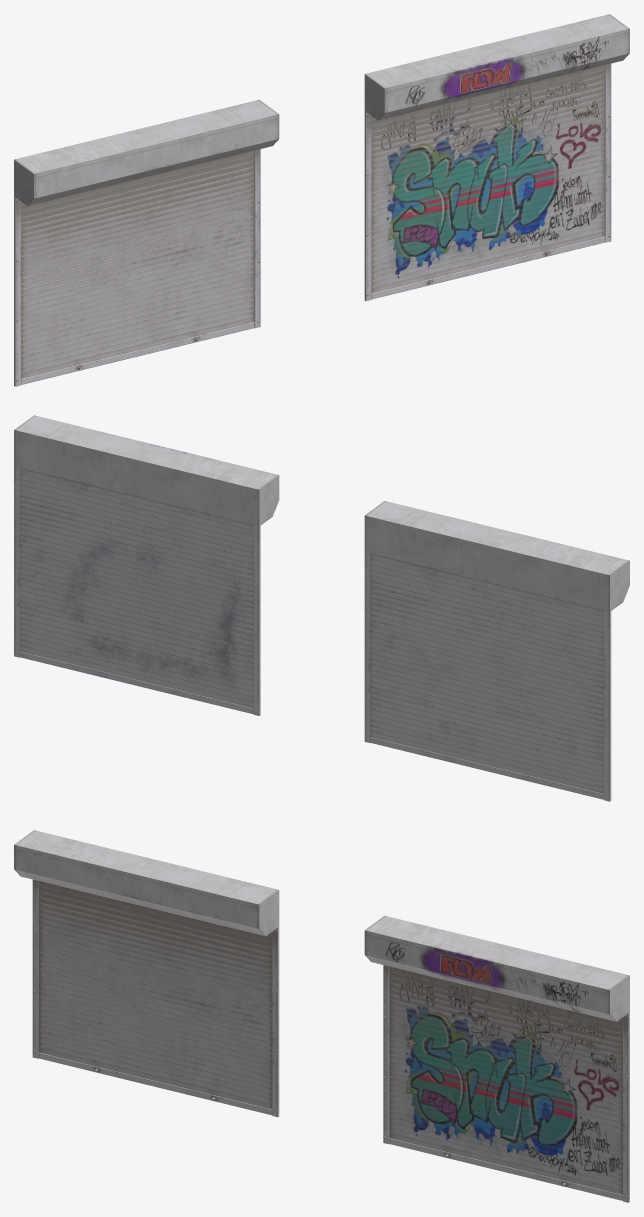
Rendered from rollershutter_window_01.glb.
3 renders of one model, top to bottom at view 1: azimuth 30°, elevation 25°; view 2: azimuth 150°, elevation 25°; view 3: azimuth 330°, elevation 25°, orthographic.
Parts seen in each view (by area): view 1: rollershutter_window_01_graffiti, rollershutter_window_01; view 2: rollershutter_window_01, rollershutter_window_01_graffiti; view 3: rollershutter_window_01, rollershutter_window_01_graffiti.
Part boxes in pixels (bbox=[...]): rollershutter_window_01_graffiti: bbox=[364, 14, 629, 301]; rollershutter_window_01: bbox=[14, 99, 279, 386]; rollershutter_window_01: bbox=[364, 501, 629, 801]; rollershutter_window_01_graffiti: bbox=[14, 415, 279, 715]; rollershutter_window_01: bbox=[14, 830, 279, 1117]; rollershutter_window_01_graffiti: bbox=[364, 915, 629, 1202].
Size of the model in its own units: 5.1 by 1.85 by 0.3001.
2 materials, 2 textured.
